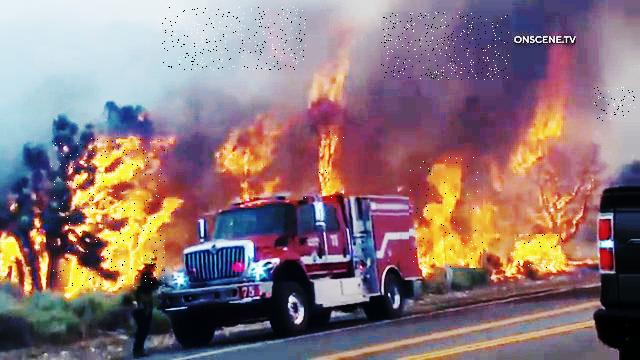fire: (51, 138, 165, 287), (410, 158, 486, 271), (303, 126, 344, 201), (515, 235, 564, 269)
smoke: (162, 8, 306, 71), (382, 12, 510, 80), (595, 87, 637, 121)
